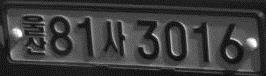0: (163, 18, 188, 62)
1: (75, 15, 96, 59), (191, 20, 212, 64)
3: (135, 17, 160, 60)
6: (218, 21, 245, 64)
8: (48, 15, 74, 56)
사: (102, 18, 126, 57)
울산_V: (20, 12, 48, 57)
